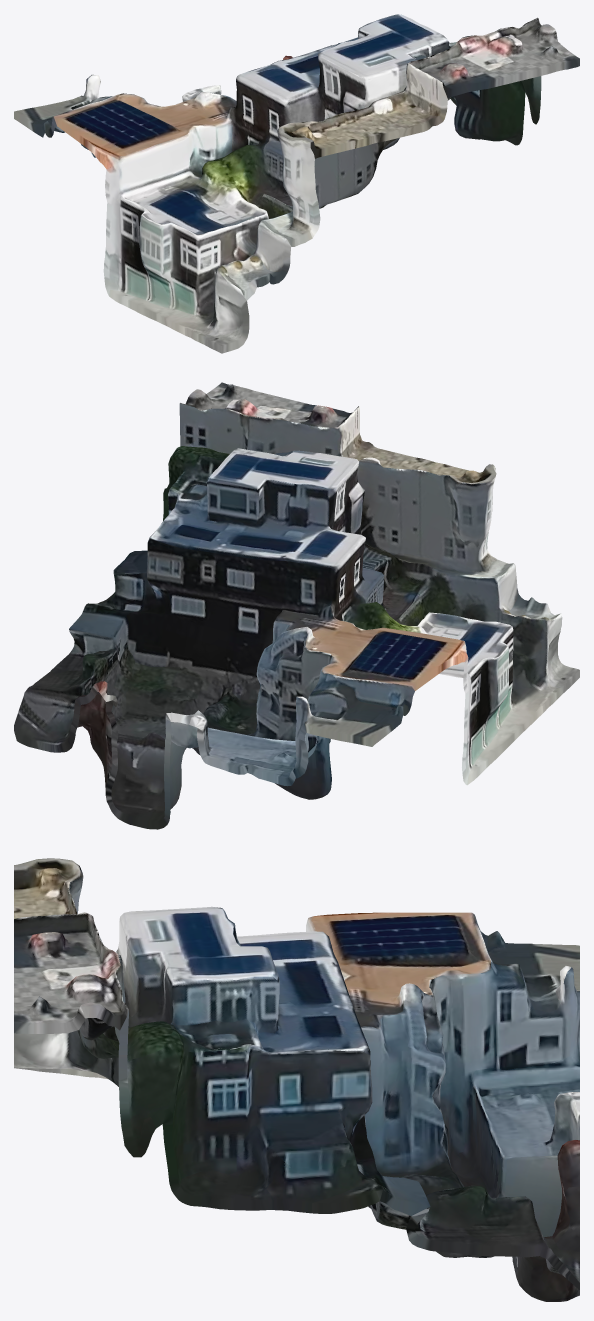
The model's file is z20-167745-405194-h0-yup-uvflip-v3-world.glb.
The picture shows the model from 3 angles, top to bottom: view 1: azimuth 30°, elevation 25°; view 2: azimuth 150°, elevation 25°; view 3: azimuth 270°, elevation 25°; orthographic projection. The views are drawn at different scales.
Bounding box in the file's own units: 30.16 × 22.12 × 30.32.
1 material, 1 textured.
